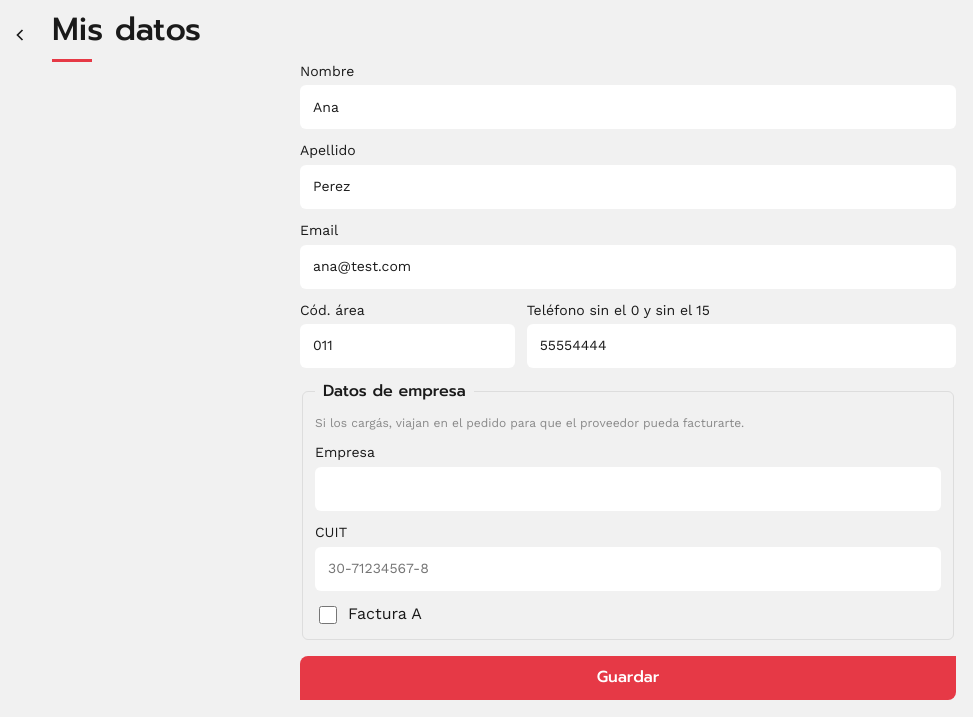
Test case: DetalleUsuario: teléfono y código de área › descarta lo que no sea dígito y corta en 8
Replace the text in the field labelled "Teléfono sin el 0 y sin el 15" with "15-5555 4444999": (741, 346) top-left (527, 324), bottom-right (956, 368)
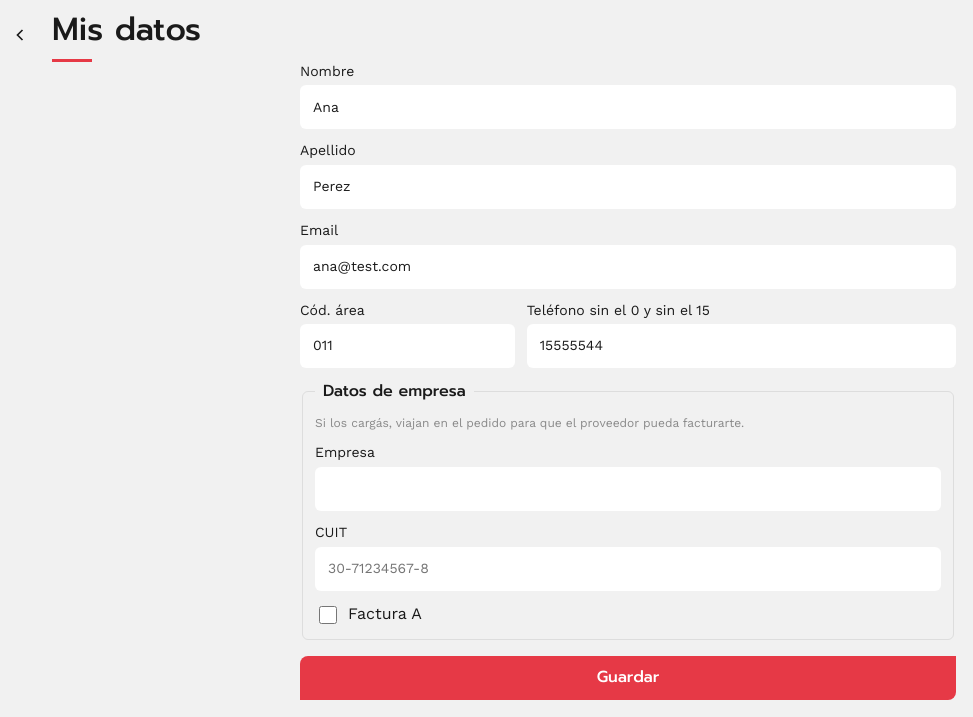
Expected: the field labelled "Teléfono sin el 0 y sin el 15" holds "15555544", top-left (527, 324), bottom-right (956, 368)
